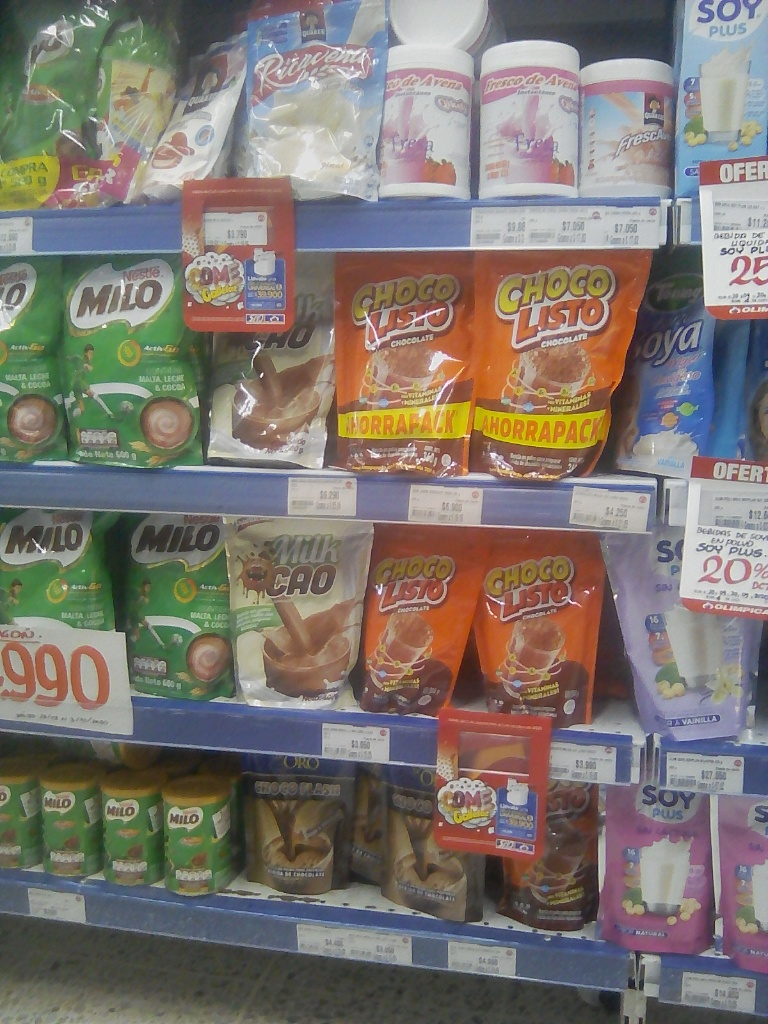COL0170103DYP20000: (475, 526, 597, 726)
COL0170103DYP36000: (471, 250, 650, 479)
COL0170203DYP50000: (1, 0, 108, 150)
COL0170203LAT20000: (157, 775, 234, 896)
